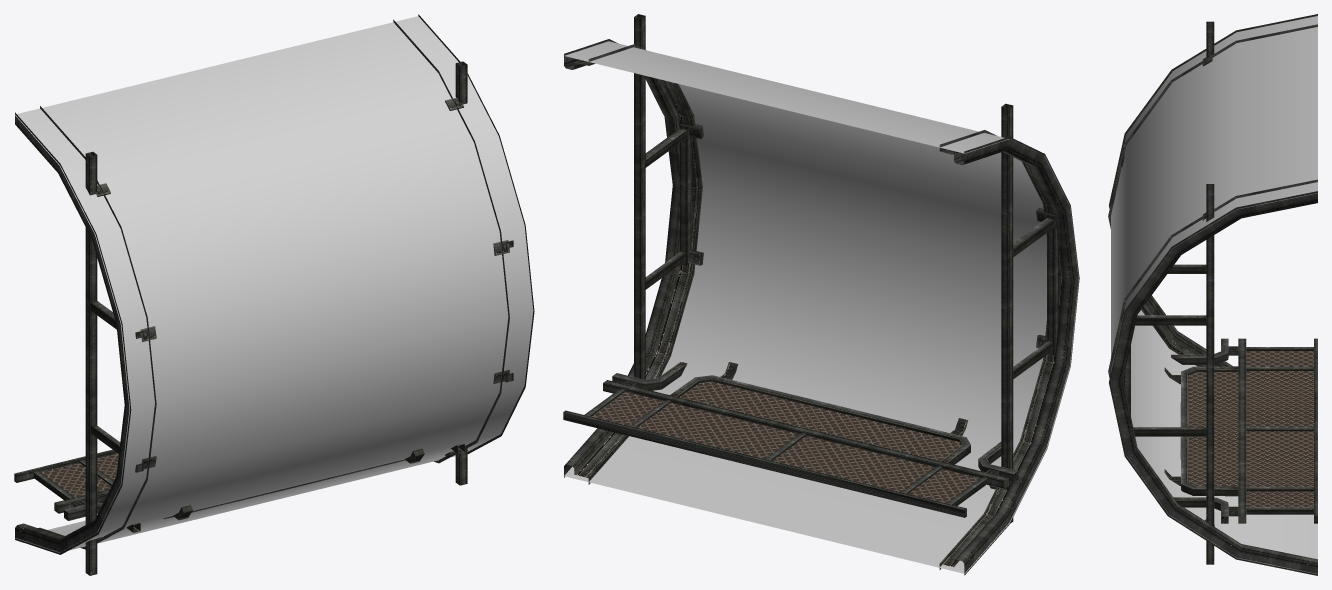
File: tunnels_curved_wall.DAE
3 renders of one model, left to right at view 1: azimuth 30°, elevation 25°; view 2: azimuth 150°, elevation 25°; view 3: azimuth 270°, elevation 25°, orthographic. The views are drawn at different scales.
Parts seen in each view (by area): view 1: curved_wall, curved_wall_details, curved_wall_floor_mesh; view 2: curved_wall, curved_wall_details, curved_wall_floor_mesh; view 3: curved_wall, curved_wall_details, curved_wall_floor_mesh.
Boxes of the visible parts, x1,y1,x2,y2 form: curved_wall: (15, 16, 533, 552); curved_wall_details: (14, 14, 534, 575); curved_wall_floor_mesh: (41, 453, 118, 497); curved_wall: (563, 41, 1078, 573); curved_wall_details: (563, 14, 1079, 575); curved_wall_floor_mesh: (591, 381, 980, 503); curved_wall: (1111, 16, 1317, 574); curved_wall_details: (1108, 14, 1317, 575); curved_wall_floor_mesh: (1186, 351, 1313, 507).
Size of the model in its own units: 4 by 2 by 4.05.
